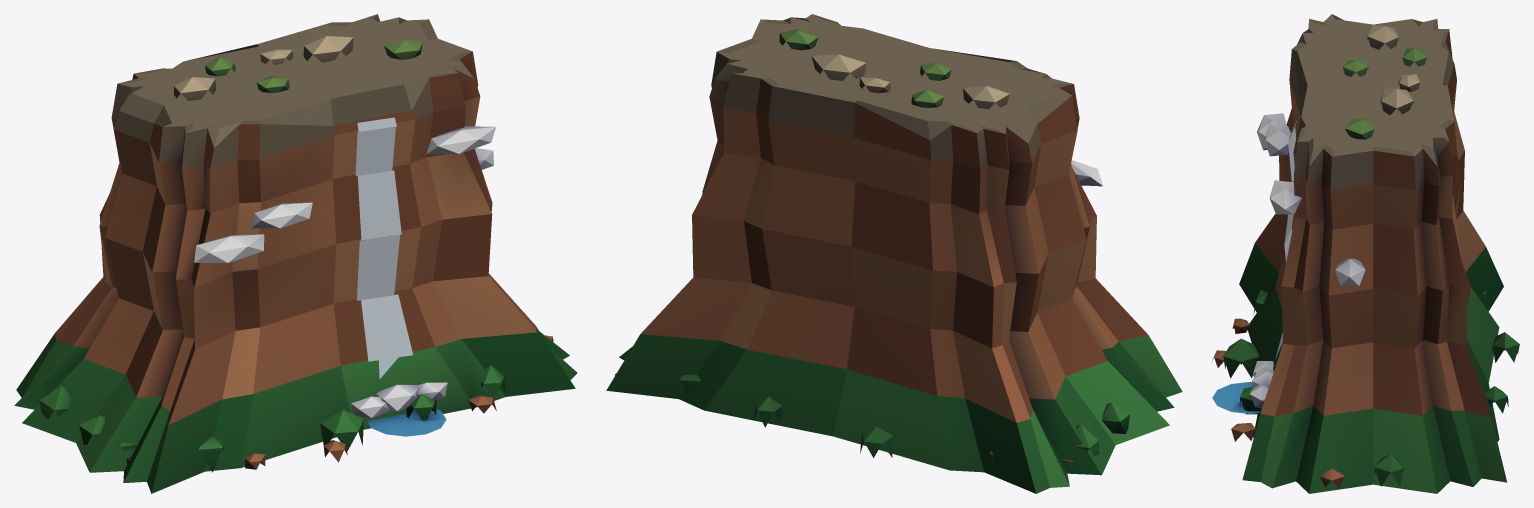
The model's file is roraima_tepui.glb.
The picture shows the model from 3 angles, left to right: view 1: azimuth 30°, elevation 25°; view 2: azimuth 150°, elevation 25°; view 3: azimuth 270°, elevation 25°; orthographic projection. The views are drawn at different scales.
Visible parts, largest first — view 1: tepuy, cascada, mist, bosque_nuboso; view 2: tepuy, bosque_nuboso; view 3: tepuy, mist, bosque_nuboso, cascada.
Part boxes in pixels (box(x1,y1,x2,y2)): tepuy: box(14, 14, 577, 493); cascada: box(355, 117, 446, 436); mist: box(194, 126, 495, 417); bosque_nuboso: box(39, 365, 505, 472); tepuy: box(606, 14, 1182, 493); bosque_nuboso: box(678, 374, 1129, 463); tepuy: box(1212, 14, 1507, 493); mist: box(1250, 113, 1365, 407); bosque_nuboso: box(1223, 290, 1519, 486); cascada: box(1212, 120, 1296, 413).
Size of the model in its own units: 89.11 by 59.37 by 52.59.
